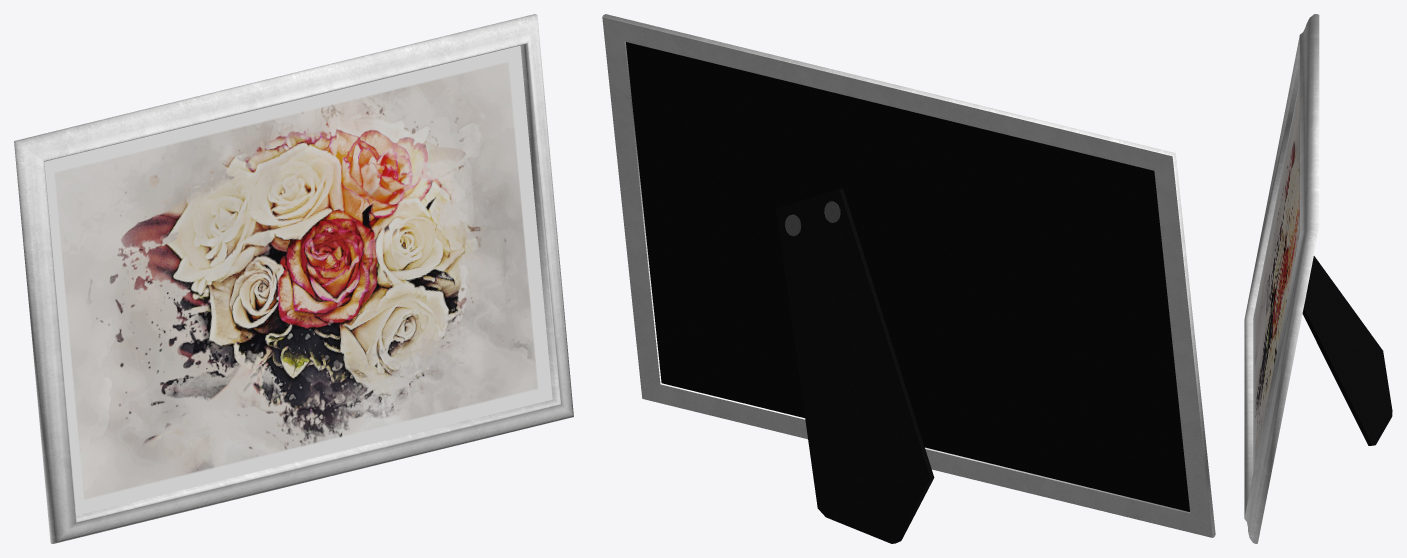
Rendered from PhotoFrame01_1A.FBX.
The picture shows the model from 3 angles, left to right: view 1: azimuth 30°, elevation 25°; view 2: azimuth 150°, elevation 25°; view 3: azimuth 270°, elevation 25°; orthographic projection. The views are drawn at different scales.
Parts seen in each view (by area): view 1: PhotoFrame01_1A; view 2: PhotoFrame01_1A; view 3: PhotoFrame01_1A.
Boxes of the visible parts, x1=… form: PhotoFrame01_1A: x1=14, y1=14, x2=573, y2=543; PhotoFrame01_1A: x1=602, y1=14, x2=1215, y2=543; PhotoFrame01_1A: x1=1244, y1=14, x2=1392, y2=543.
Size of the model in its own units: 0.1641 by 0.1131 by 0.048.
